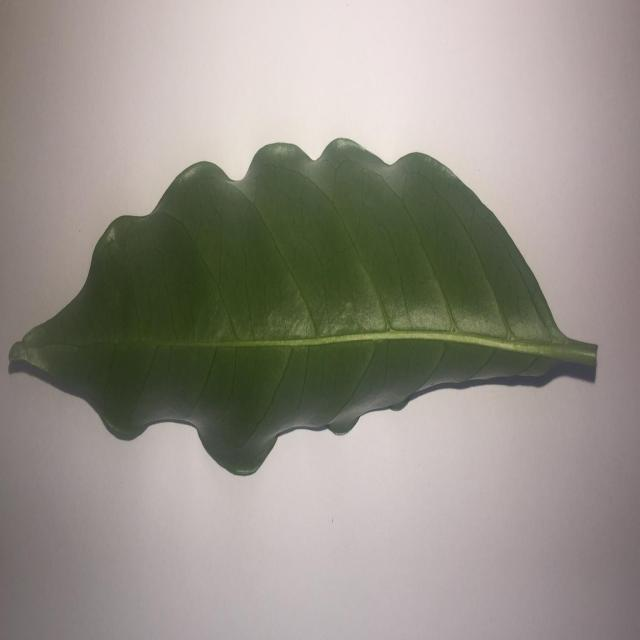nodisease: (9, 138, 597, 476)
